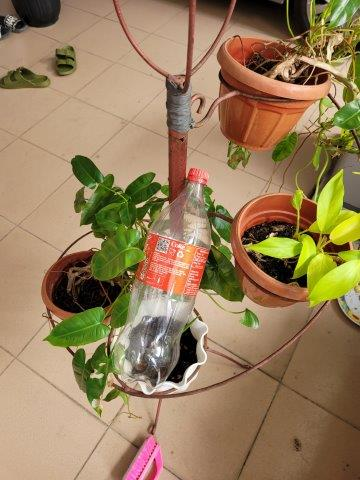botolplastik: (117, 169, 211, 381)
